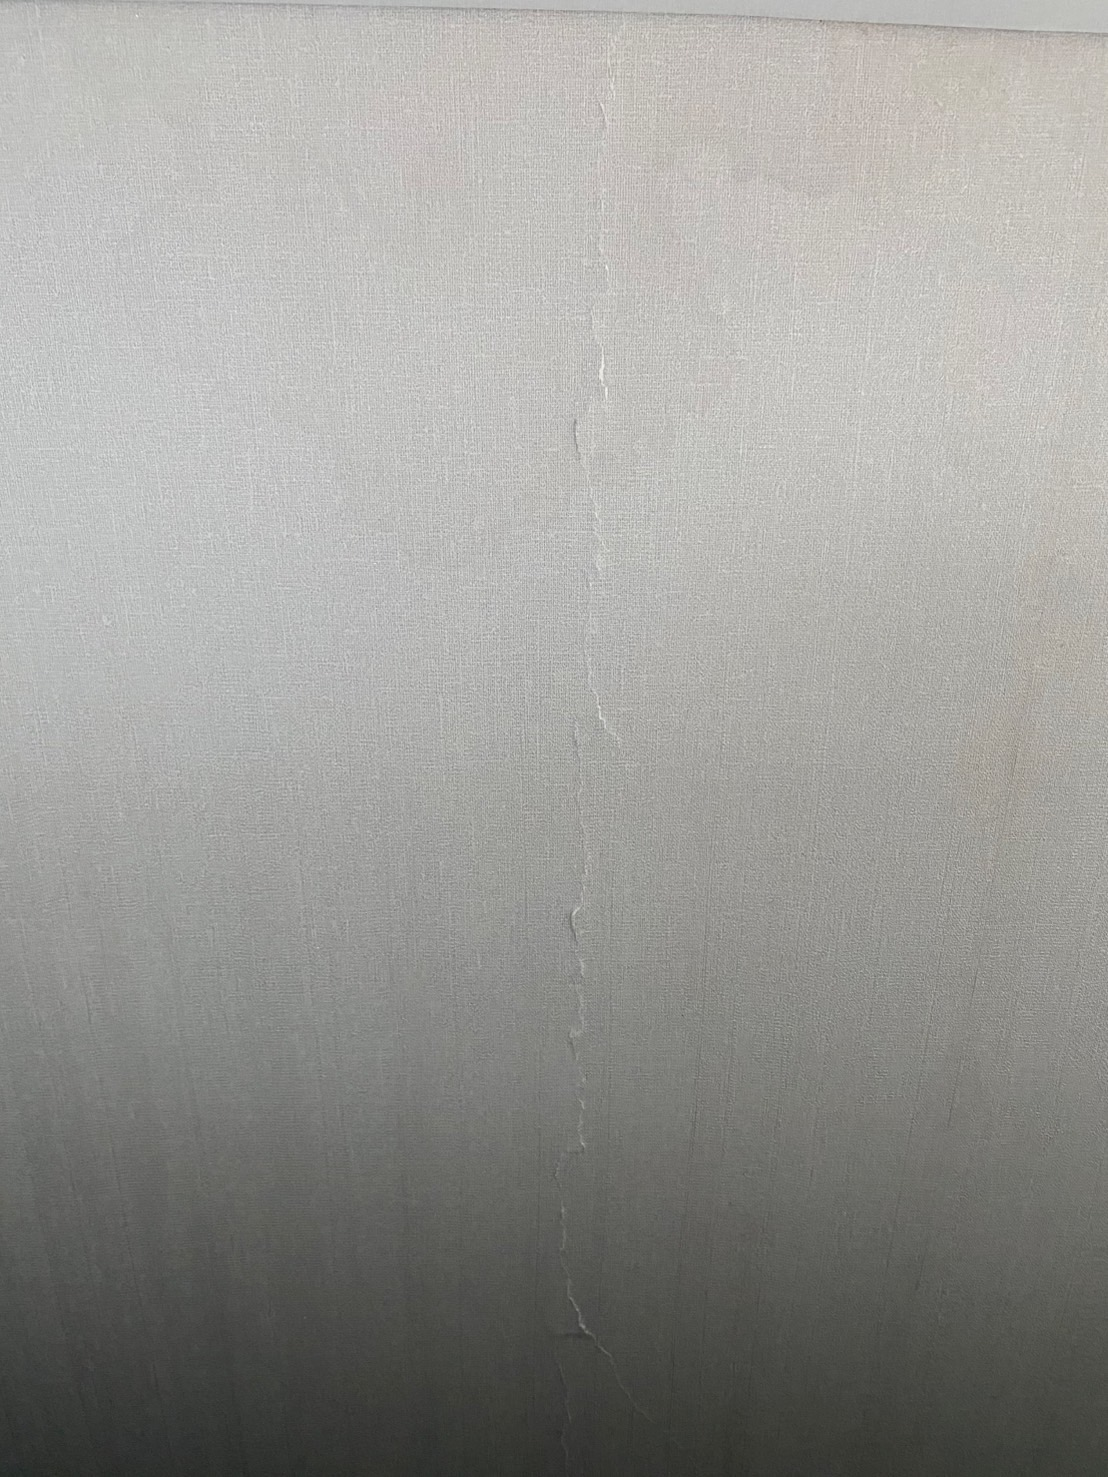Low: (537, 28, 665, 1472)
